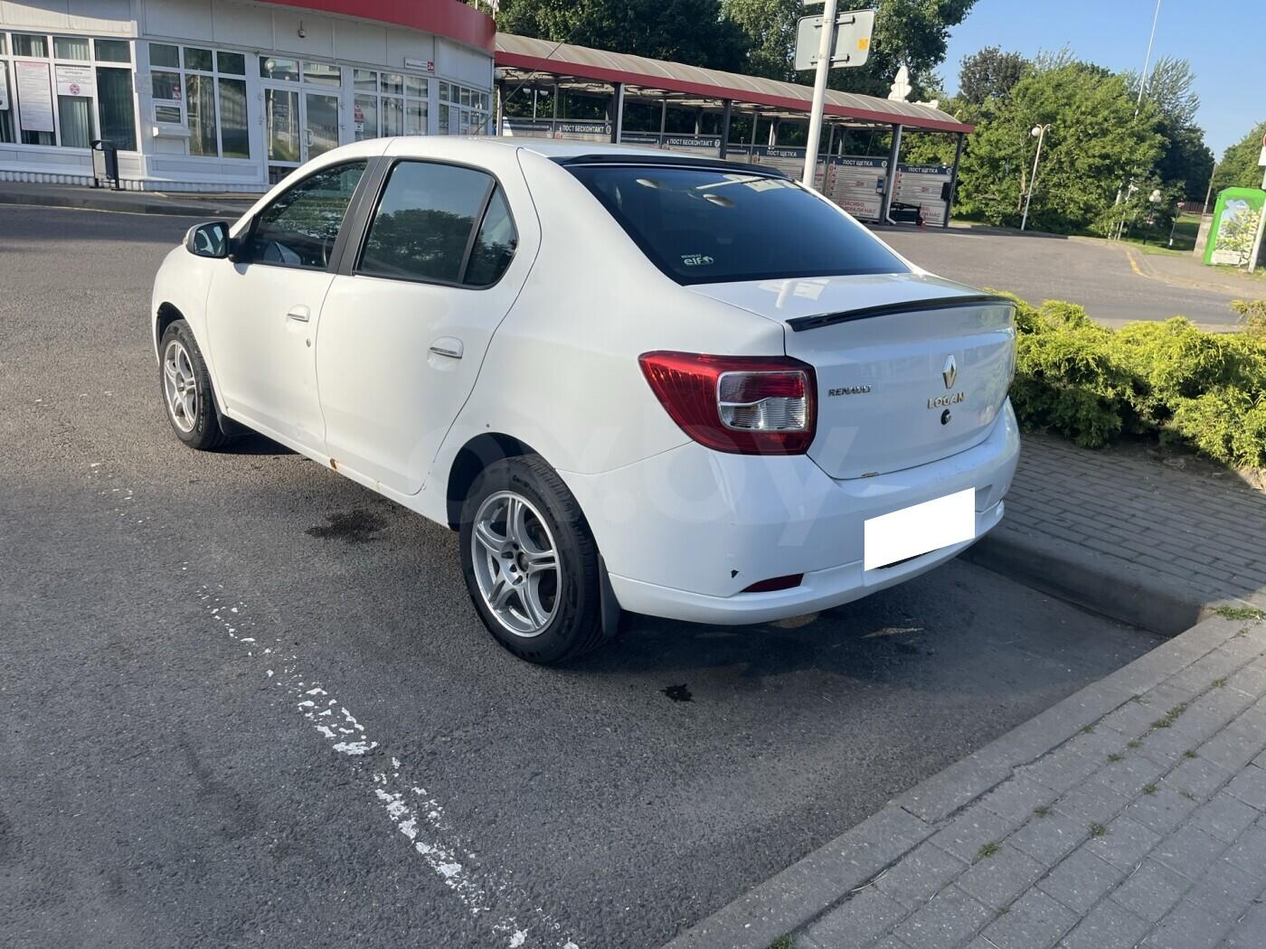Logan_2013-2018: (147, 121, 1032, 657)
